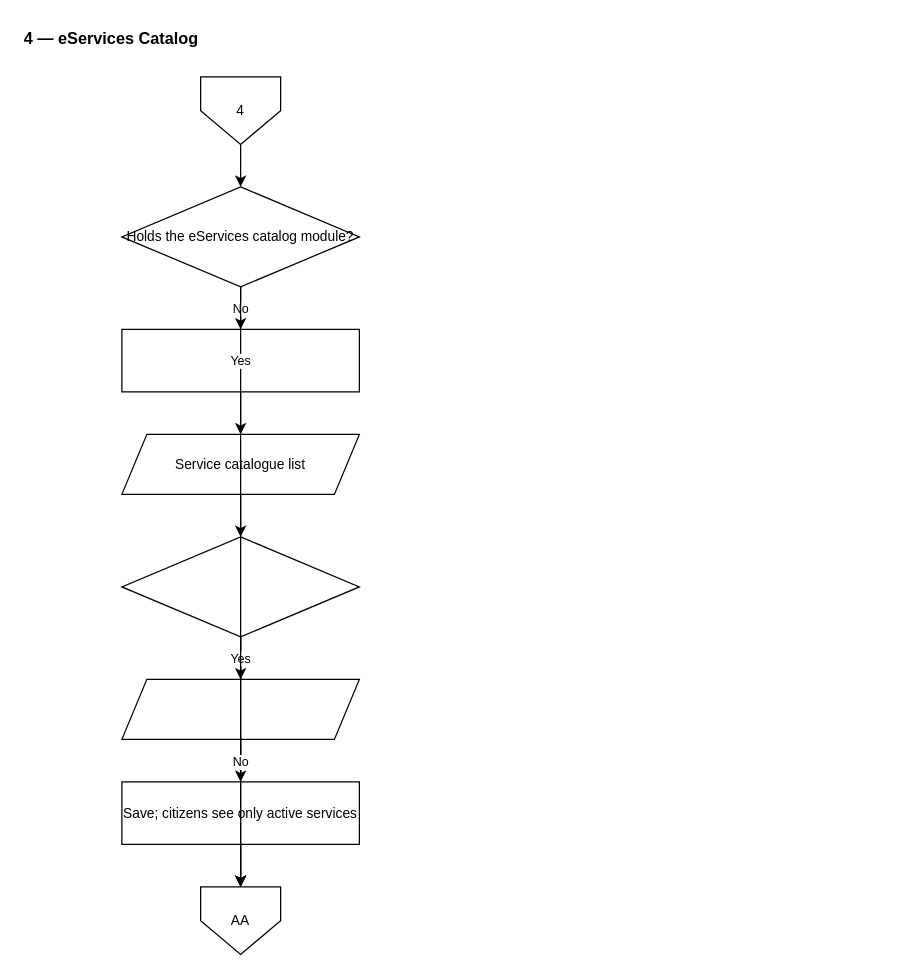
Some shapes in this 918 by 976 pixel diagram are drawn without their labels. Here are the shapes that lost their labels. From the top down, the box of each, then its label:
(121, 328, 359, 392): Redirected
(121, 536, 359, 637): Add, edit, or toggle active?
(121, 678, 359, 739): Service form — name, fee, requirements
